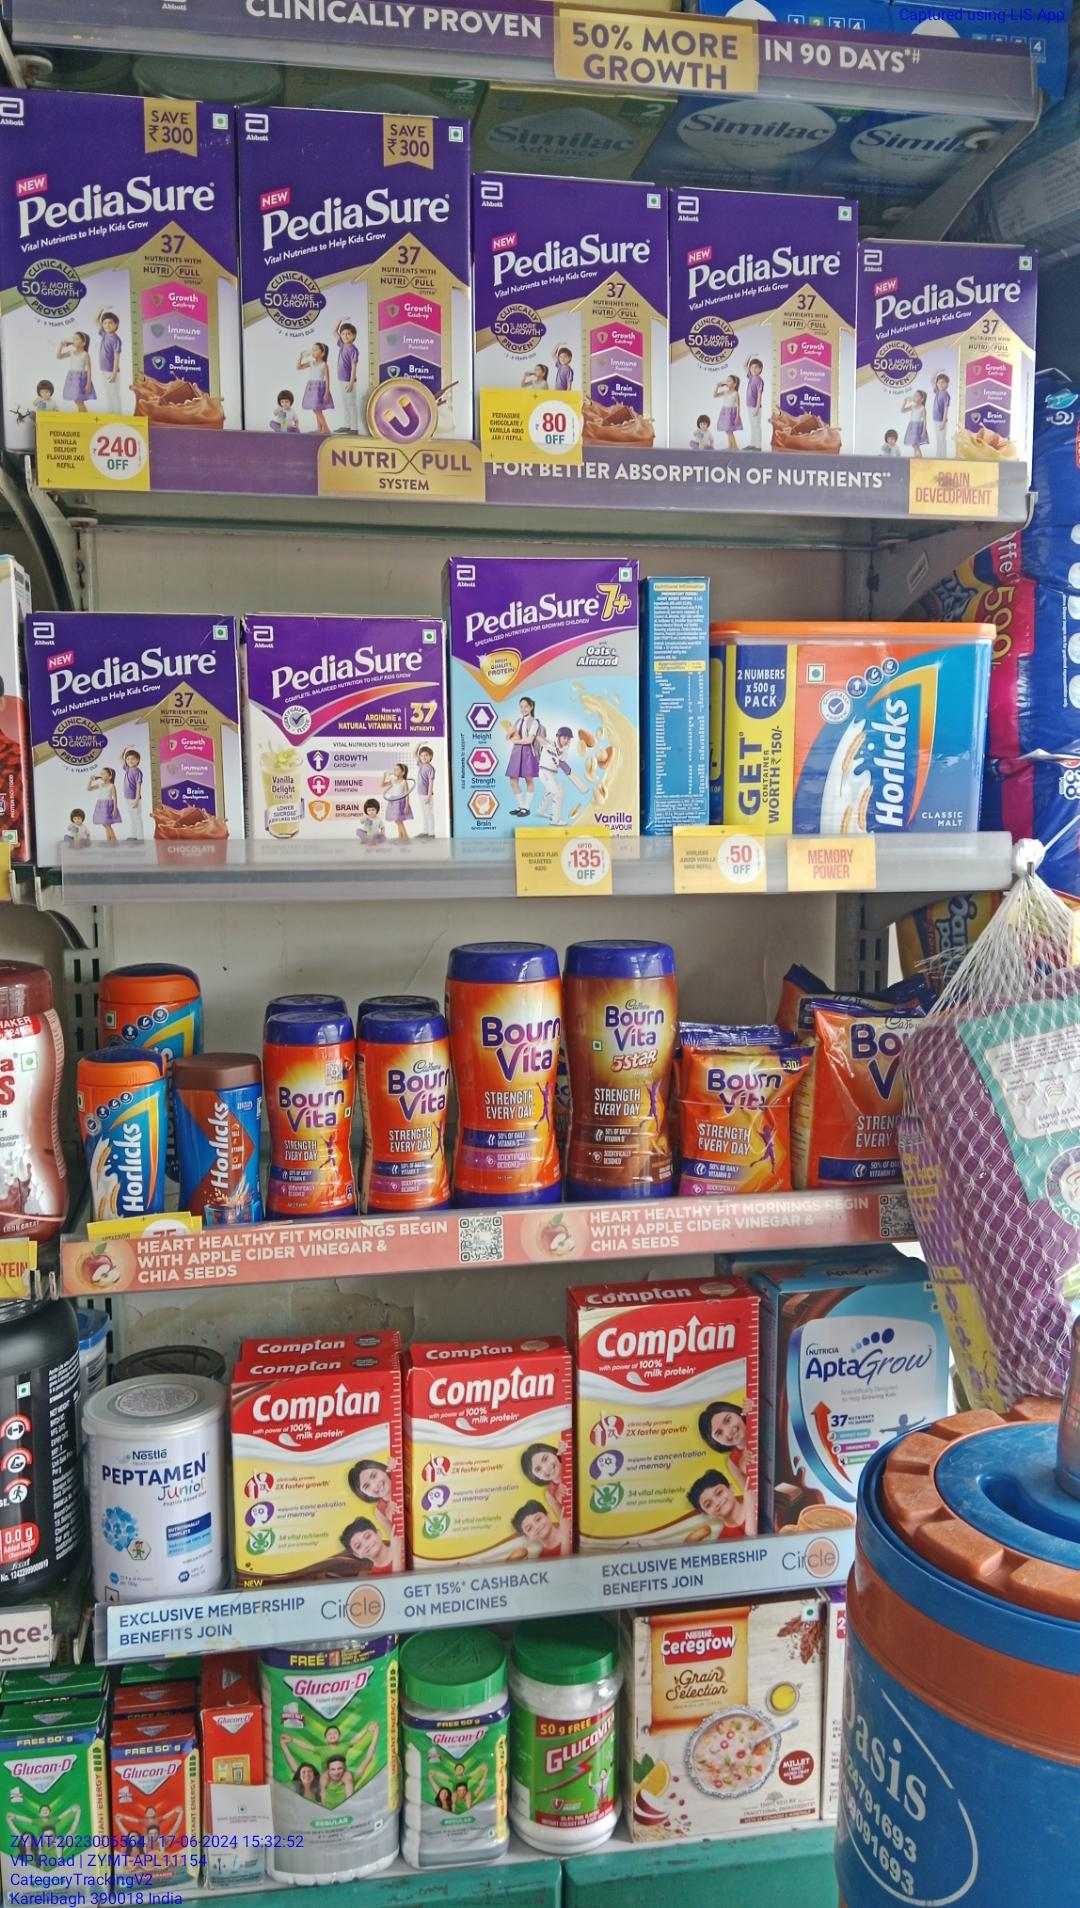BOURN_VITA_1_KG_JAR: (452, 944, 561, 1204)
BOURN_VITA_500_G_JAR: (270, 1010, 362, 1217), (364, 1010, 451, 1211)
BOURN_VITA_FIVE_STAR_MAGIC_500_G_JAR: (566, 942, 678, 1202)
COMPLAN_CHOCOLATE_200_GMS_PACK: (236, 1375, 401, 1584)
COMPLAN_KESAR_BADAM_200_GMS_PACK: (410, 1356, 571, 1566)
COMPLAN_KESAR_BADAM_500_GMS_PACK: (575, 1301, 760, 1558)
HORLICK_CHOCOLATE_500_G_JAR: (173, 1050, 266, 1224)
HORLICK_CLASSIC_MALT_500_G_JAR: (80, 1047, 164, 1212)
HORLICK_MALT_1_KG_CONTAINER: (722, 615, 990, 837)
PEDIASURE_CHOCOLATE_500_G_PACK: (35, 613, 240, 877), (473, 180, 668, 443), (672, 197, 852, 453)
PEDIASURE_VANILLA_500_G_PACK: (857, 242, 1035, 460)
